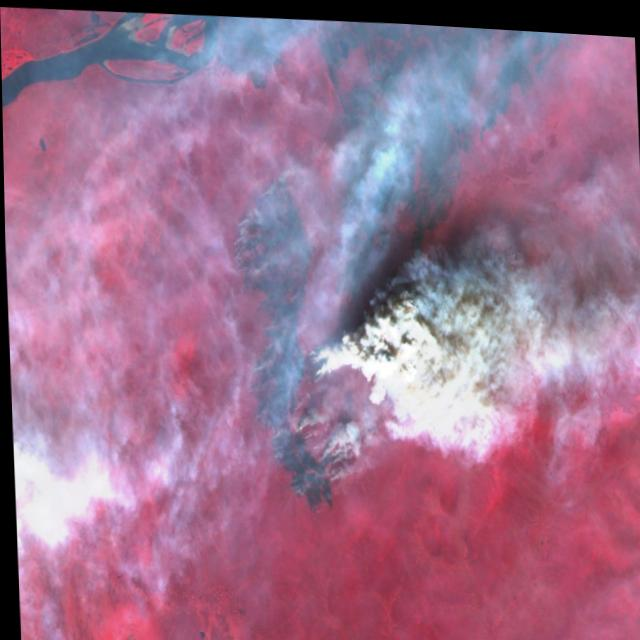fire: (221, 125, 398, 520)
